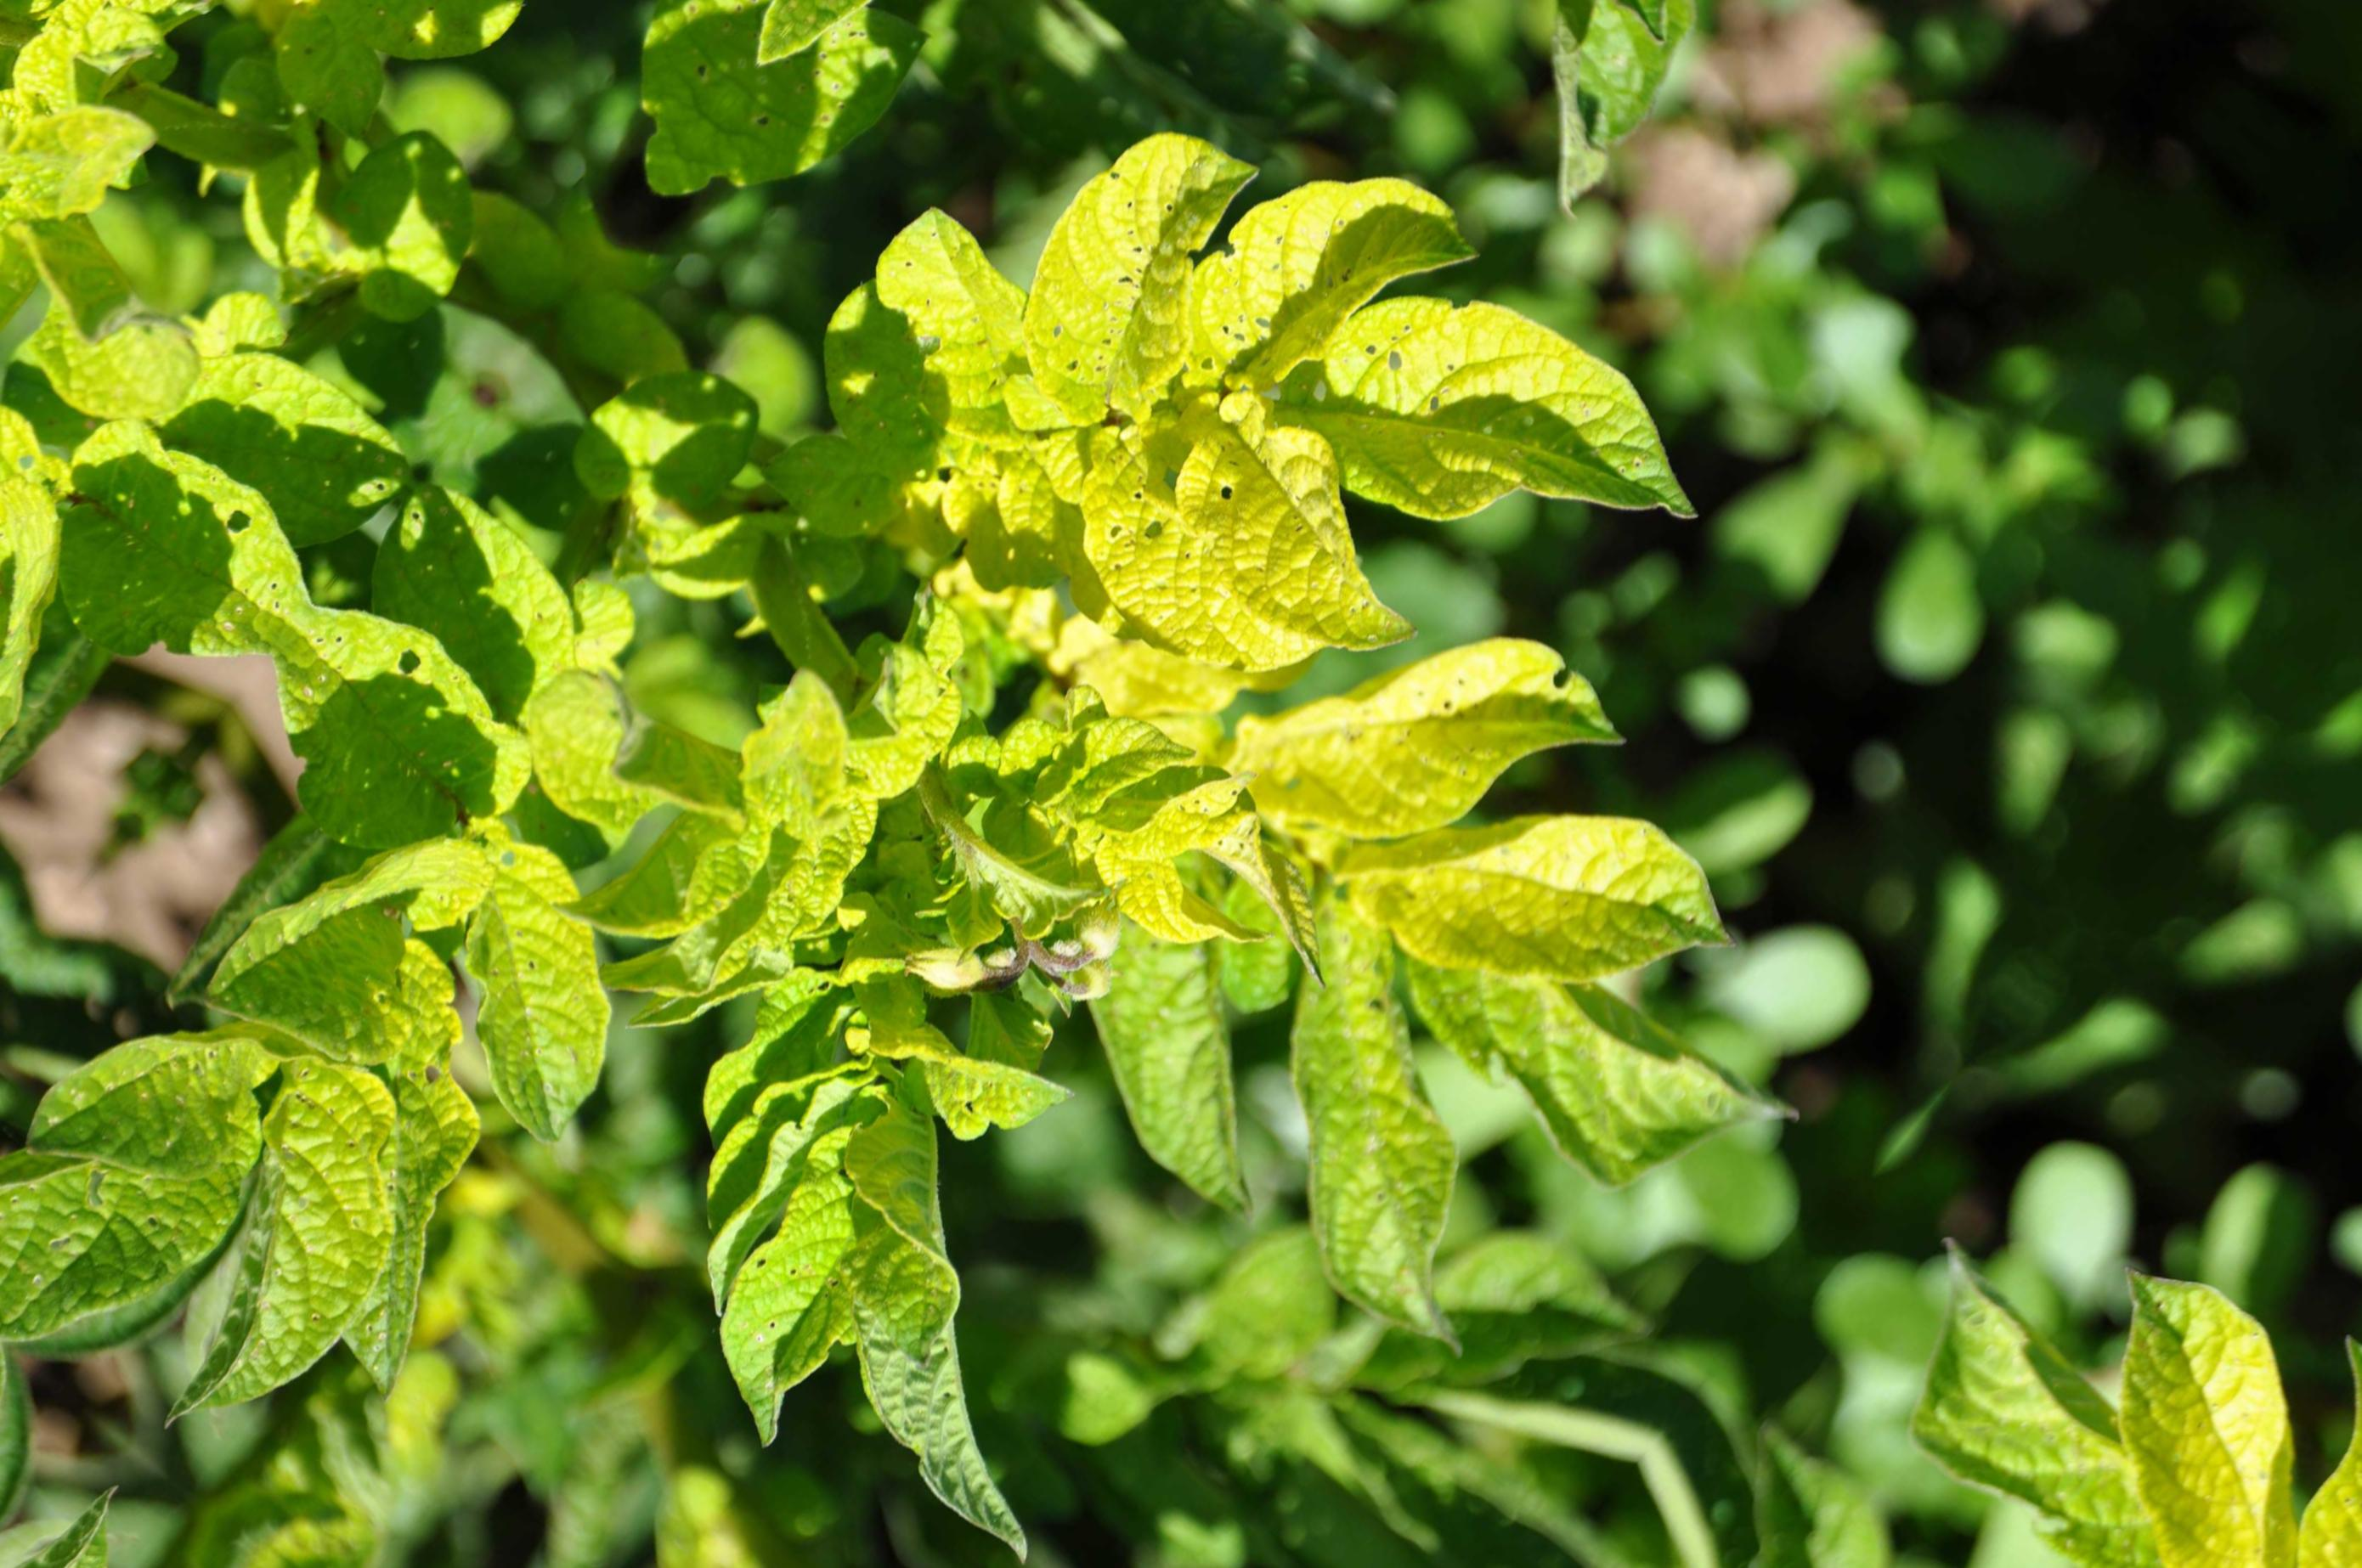Tomato leaf yellow virus: (1267, 182, 1760, 674), (493, 612, 964, 1101), (271, 724, 758, 1195), (51, 989, 514, 1475), (1141, 940, 1618, 1410), (1312, 682, 1764, 1127), (1193, 497, 1638, 941), (605, 1074, 1003, 1486), (1090, 357, 1482, 723)
